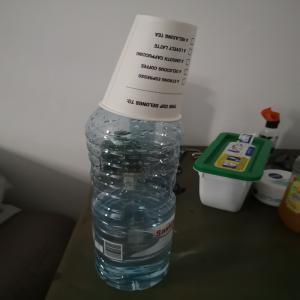Cup: (98, 14, 202, 124)
Plastic-bottle: (85, 121, 184, 293)
